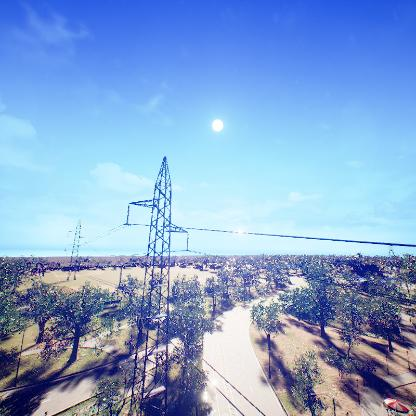tower: (122, 153, 193, 416), (62, 218, 91, 284)
